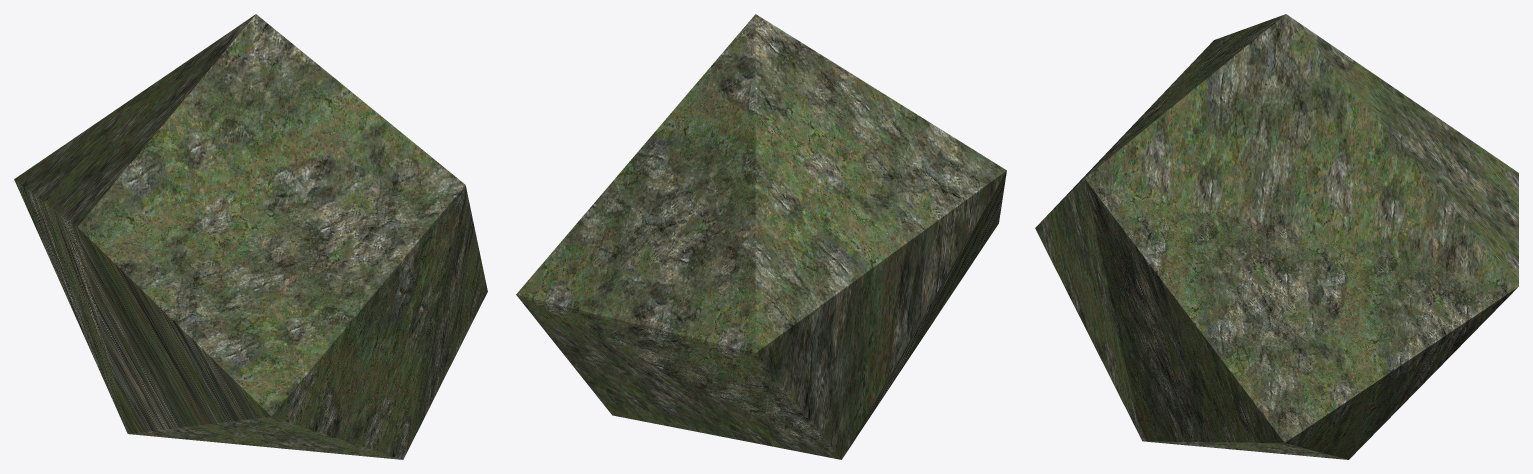
The model's file is mtns_rock_moss_a6_l3.fbx.
3 renders of one model, left to right at view 1: azimuth 30°, elevation 25°; view 2: azimuth 150°, elevation 25°; view 3: azimuth 270°, elevation 25°, orthographic. The views are drawn at different scales.
Visible parts, largest first — view 1: mesh_node; view 2: mesh_node; view 3: mesh_node.
Part boxes in pixels (x1=…): mesh_node: x1=14, y1=14, x2=487, y2=459; mesh_node: x1=516, y1=14, x2=1006, y2=459; mesh_node: x1=1035, y1=14, x2=1518, y2=459.
Bounding box in the file's own units: 1.85 × 1.61 × 1.8.
